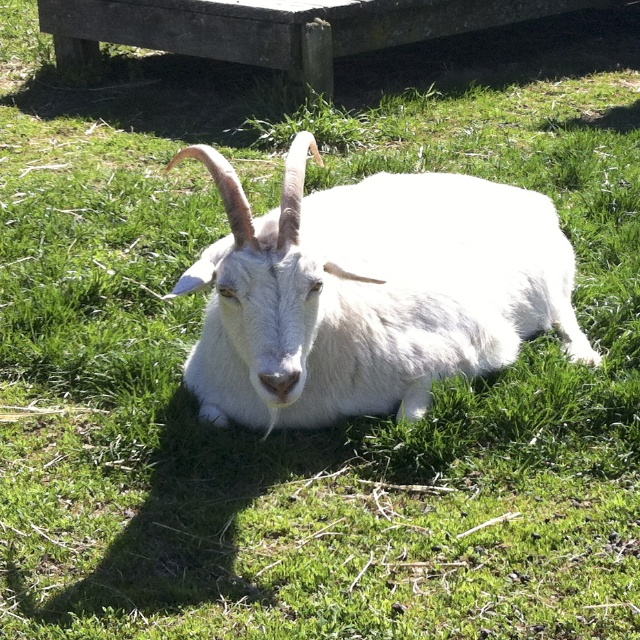Goat: (167, 126, 608, 432)
